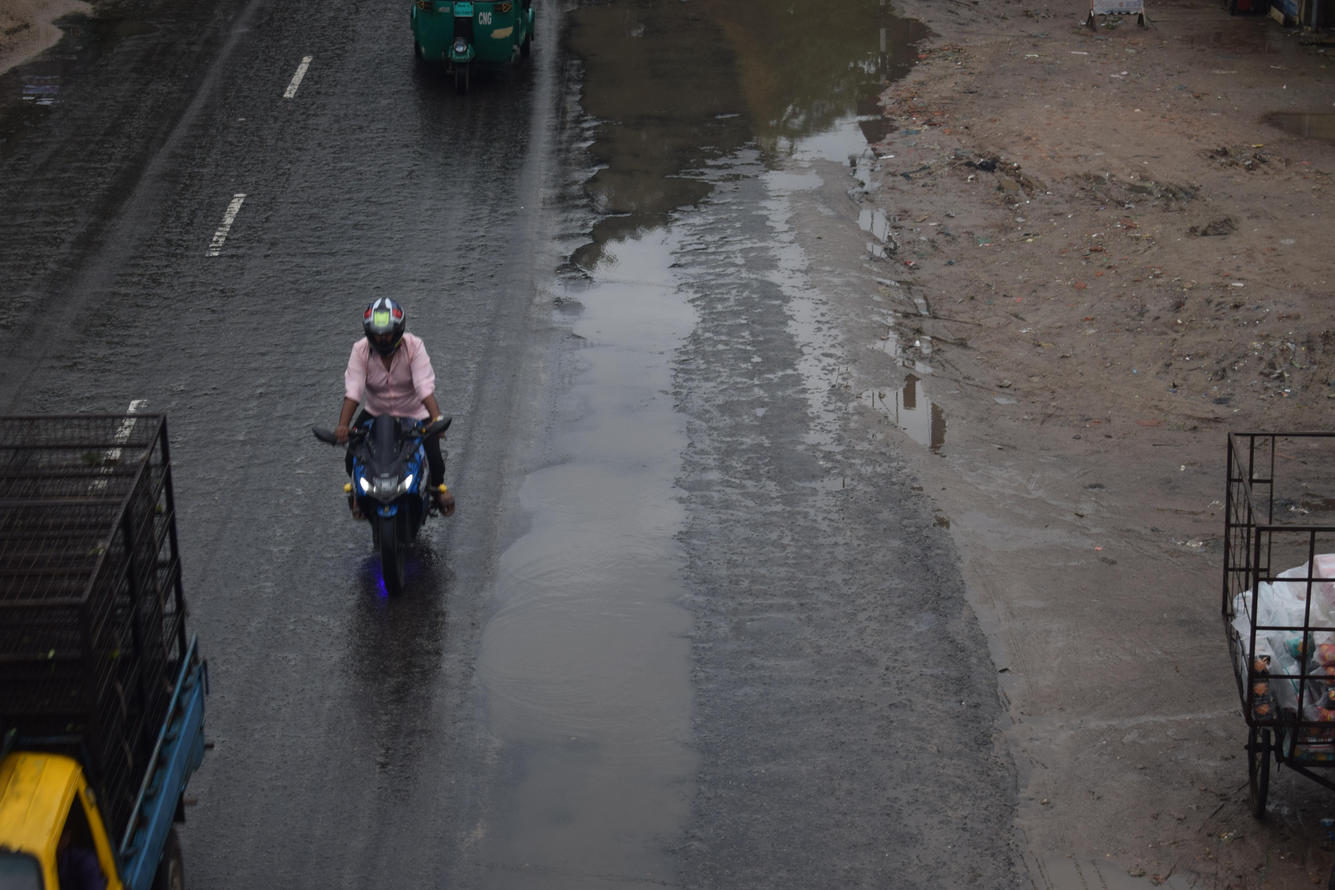Bike: (253, 256, 508, 622)
